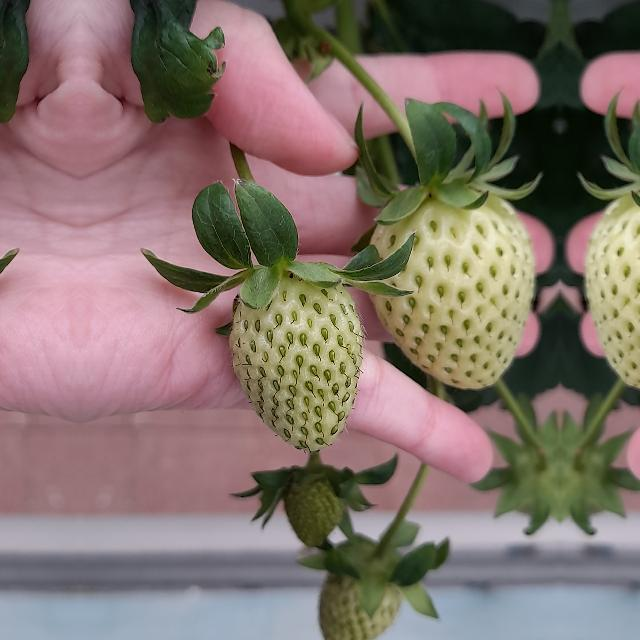Health_25: (368, 188, 536, 392), (230, 270, 362, 450), (584, 188, 640, 392)
